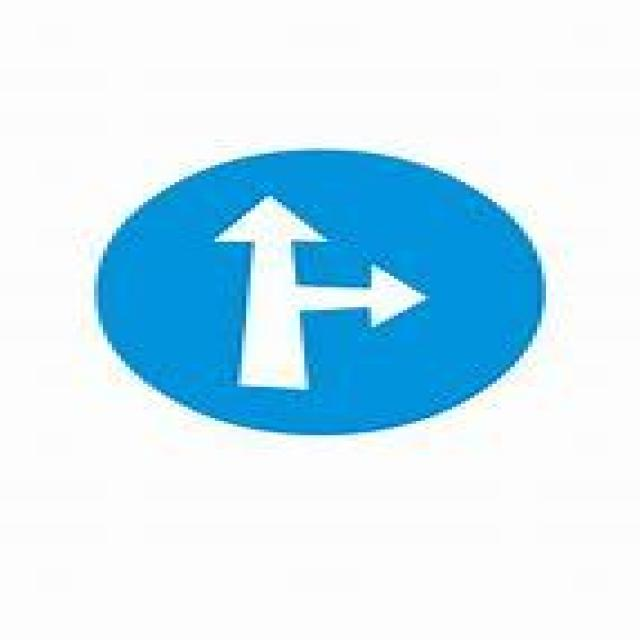compulsory_ahead_or_left: (94, 148, 542, 438)
